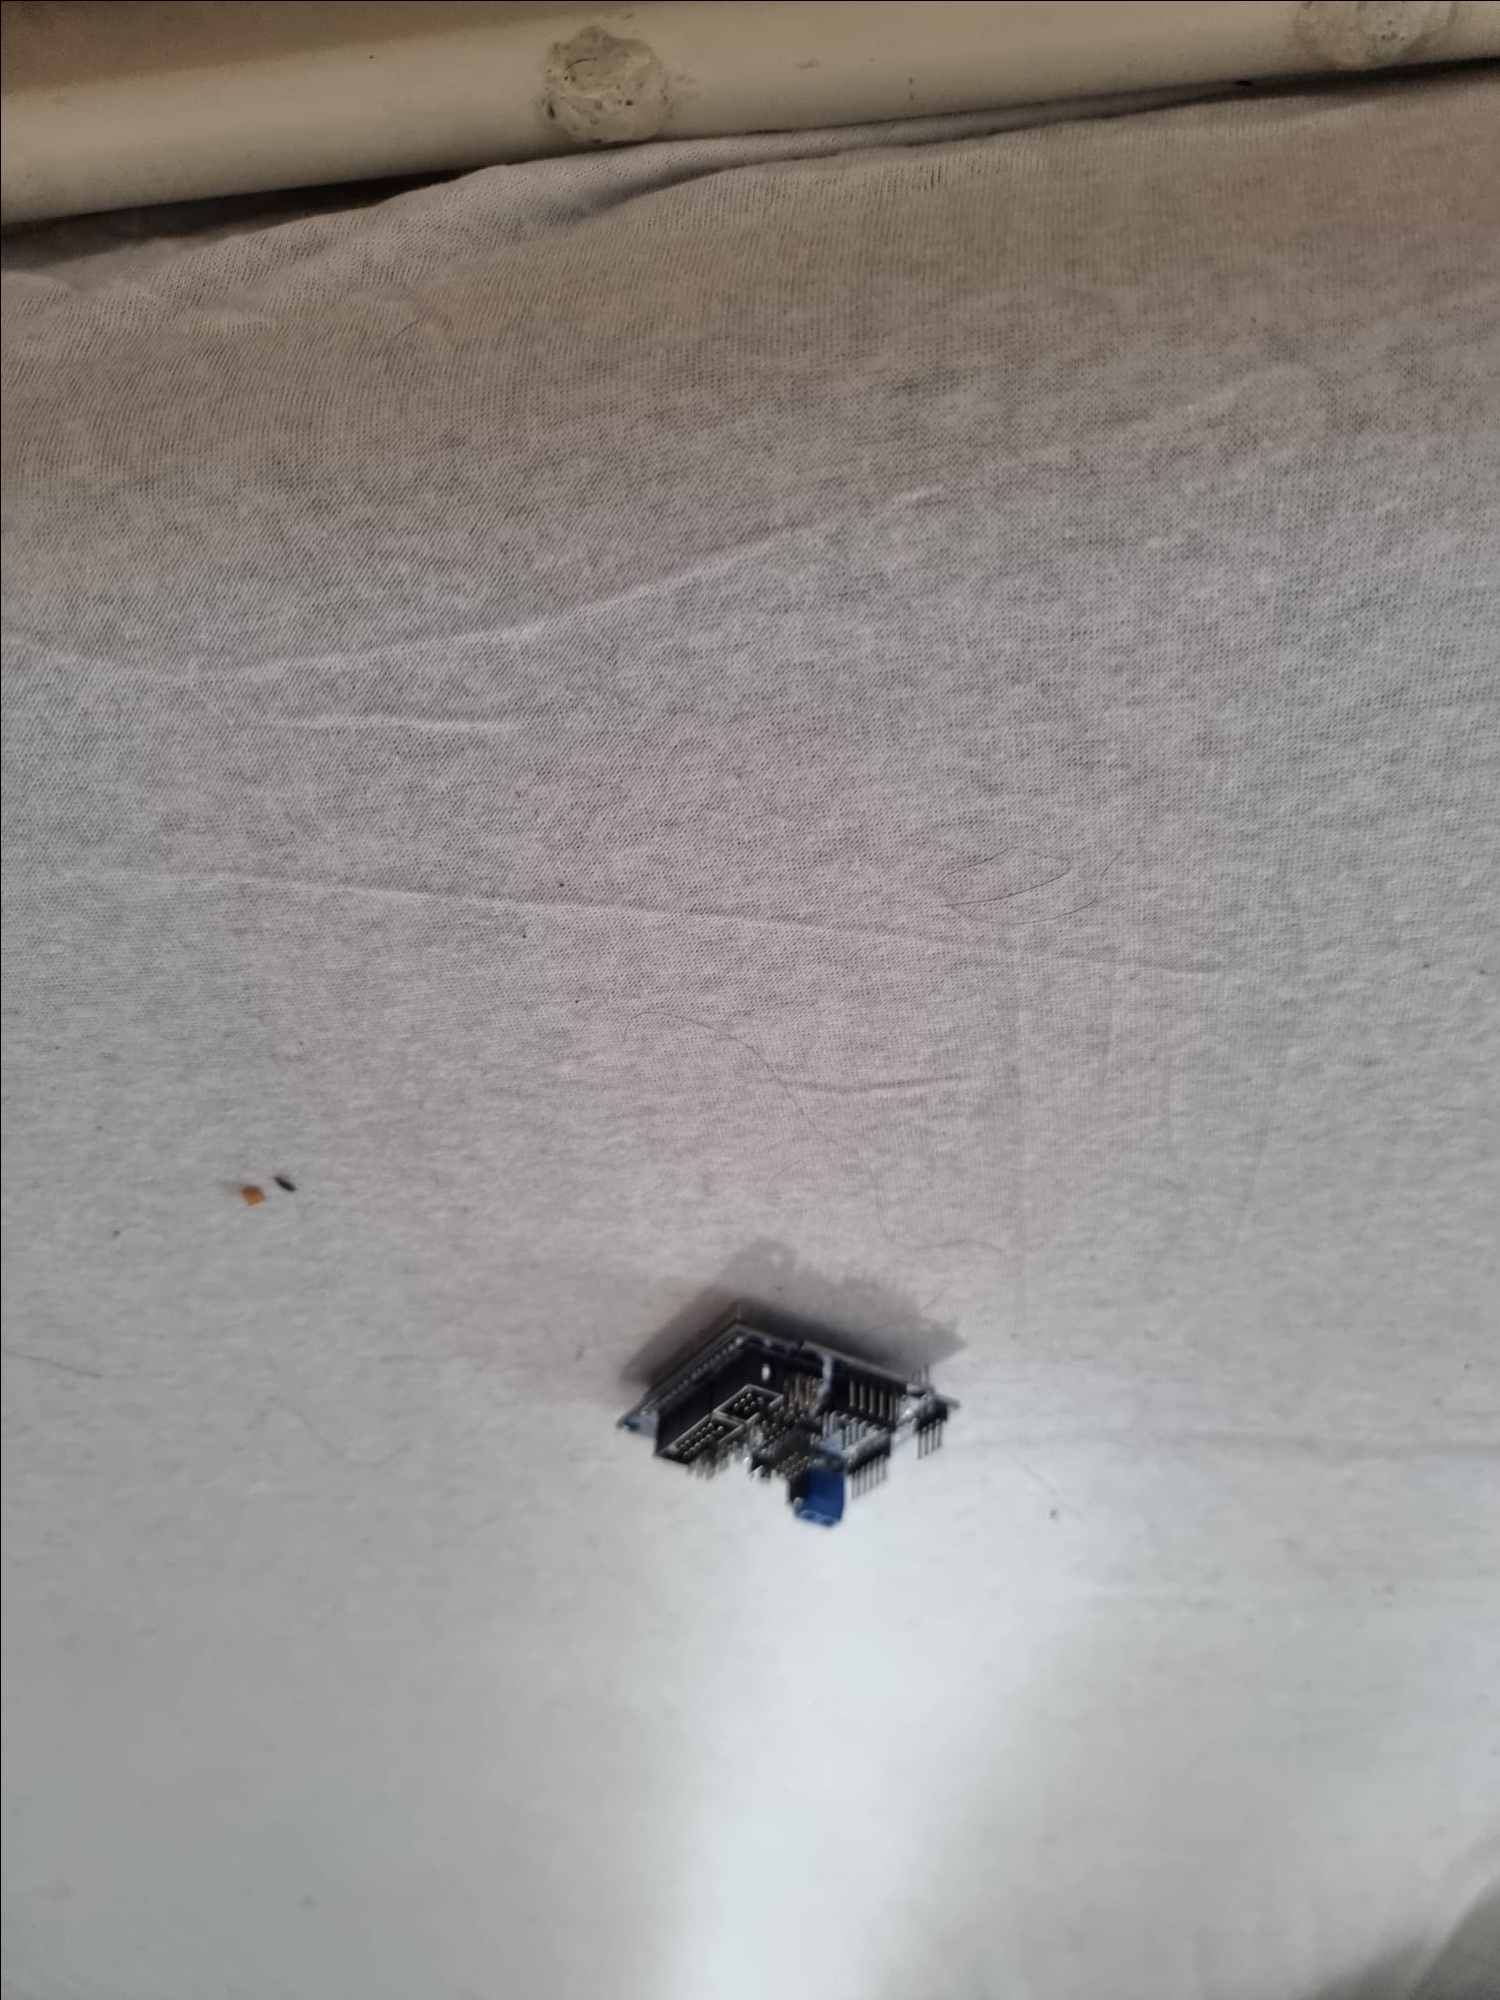5V EXPANSION: (605, 1315, 963, 1531)
